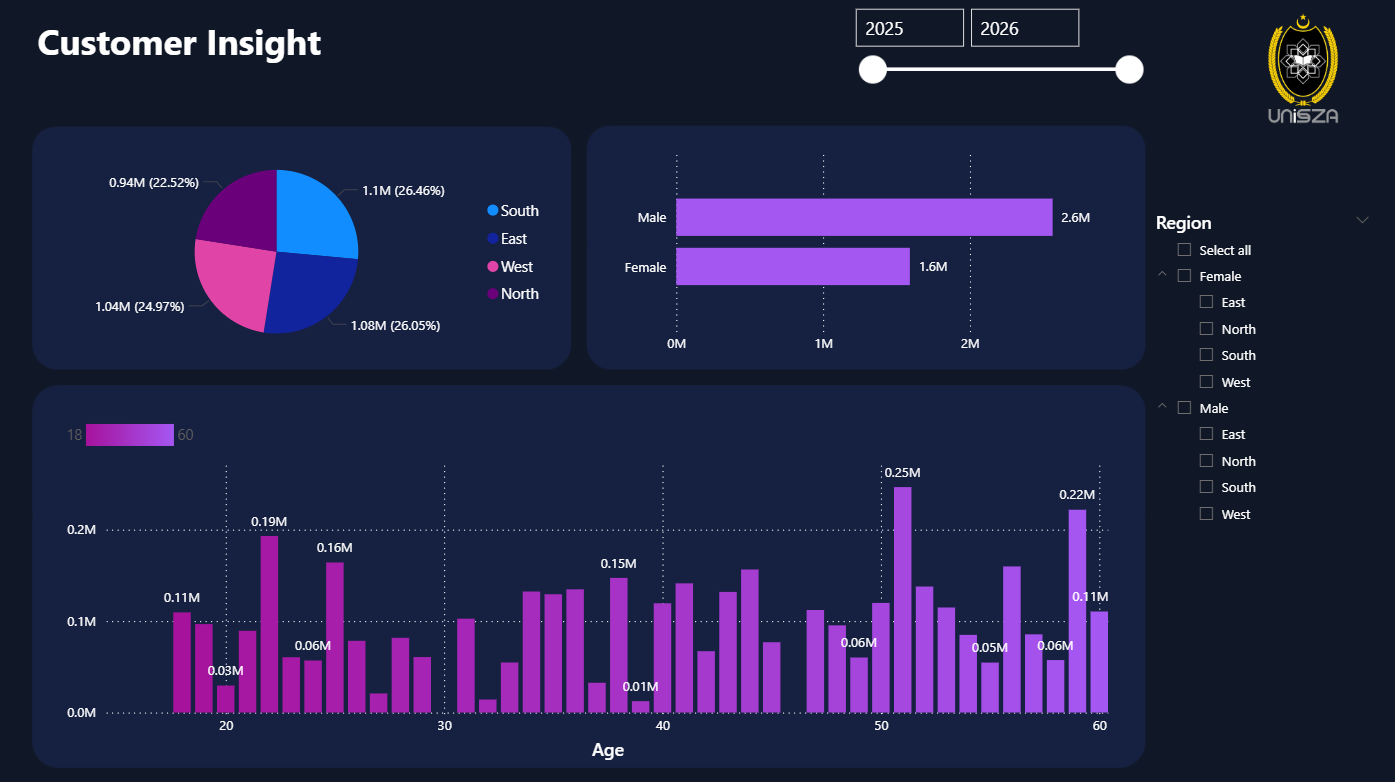

Layout of this report page (visuals, bound fields, positions):
{"tool":"powerbi","page":{"name":"Customer Insight","canvas":[1280,720],"ordinal":2},"visuals":[{"type":"barChart","fields":{"Category":["dim_customer.gender"],"Y":["fact_sales.Total Sales"]},"box":[554.3,124.3,468.6,217.1],"z":0},{"type":"columnChart","fields":{"Category":["dim_customer.age"],"Y":["fact_sales.Total Sales"]},"box":[51.4,374.3,971.4,332.9],"z":1000},{"type":"pieChart","fields":{"Category":["dim_customer.region"],"Y":["fact_sales.Total Sales"]},"box":[51.4,124.3,462.9,217.1],"z":2000},{"type":"slicer","fields":{"Values":["dim_customer.gender","dim_customer.region"]},"box":[1045.7,194.3,210,331.4],"z":3000},{"type":"textbox","box":[31.4,14.3,330,58.6],"z":4002},{"type":"slicer","fields":{"Values":["dim_time.saledate.Variation.Date Hierarchy.Year"]},"box":[772.9,7.1,272.9,94.3],"z":4003}]}

Visuals, with their boxes in screenshot pixels (x1, y1, x2, y2), scaled from the page's 1280x720 canvas onto the 1395x782 screenshot:
barChart - dim_customer.gender x fact_sales.Total Sales: x1=604 y1=135 x2=1115 y2=371
columnChart - dim_customer.age x fact_sales.Total Sales: x1=56 y1=407 x2=1115 y2=768
pieChart - dim_customer.region x fact_sales.Total Sales: x1=56 y1=135 x2=561 y2=371
slicer - dim_customer.gender x dim_customer.region: x1=1140 y1=211 x2=1369 y2=571
textbox: x1=34 y1=16 x2=394 y2=79
slicer - dim_time.saledate.Variation.Date Hierarchy.Year: x1=842 y1=8 x2=1140 y2=110
